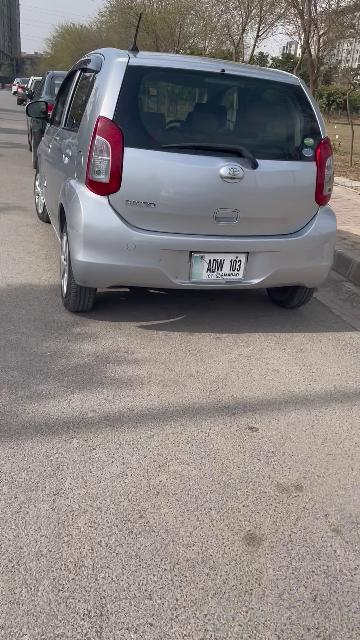plate: (191, 253, 247, 280)
